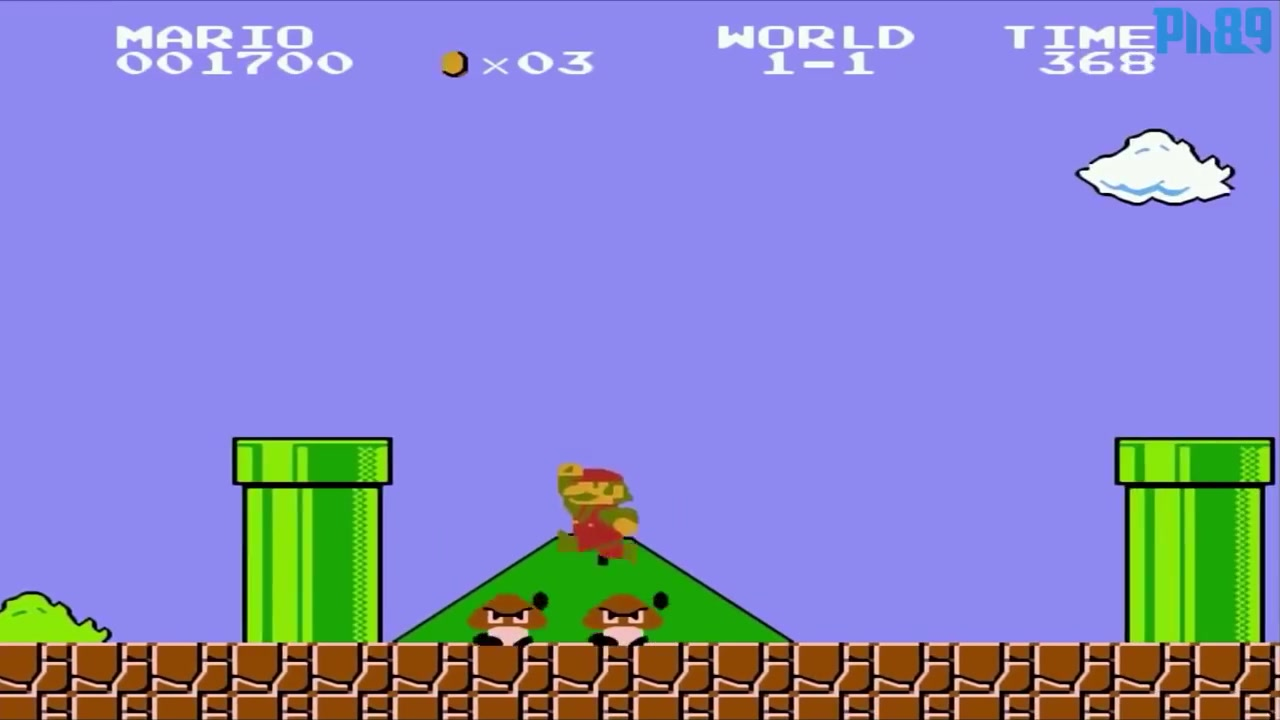mario: (547, 459, 652, 567)
